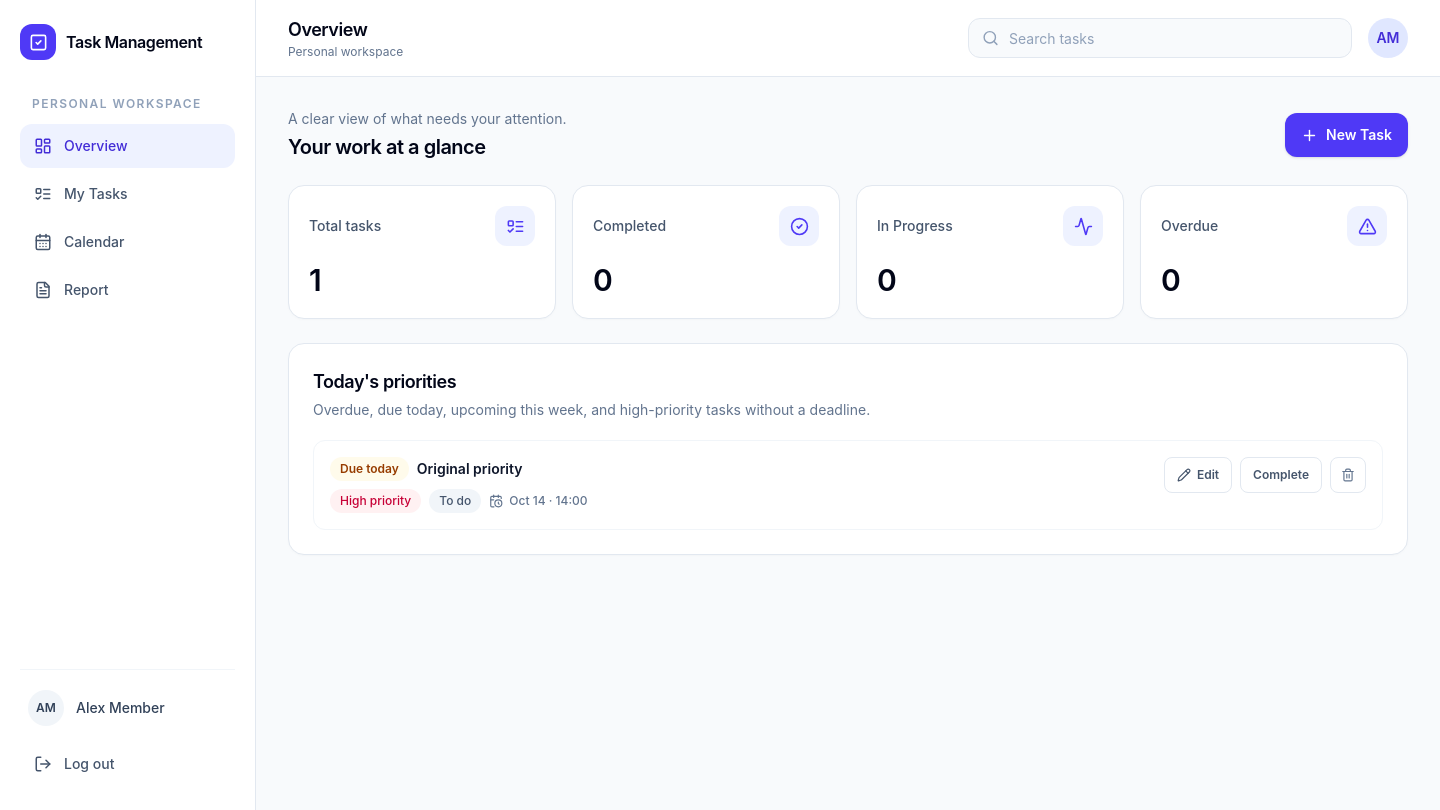
Scenario: dashboard overview › opens a selected priority in the existing edit dialog and reflects confirmed edits
Step 1. Click the button with aria-label "Edit Original priority" → (1198, 475), box [1164,457,1232,493]
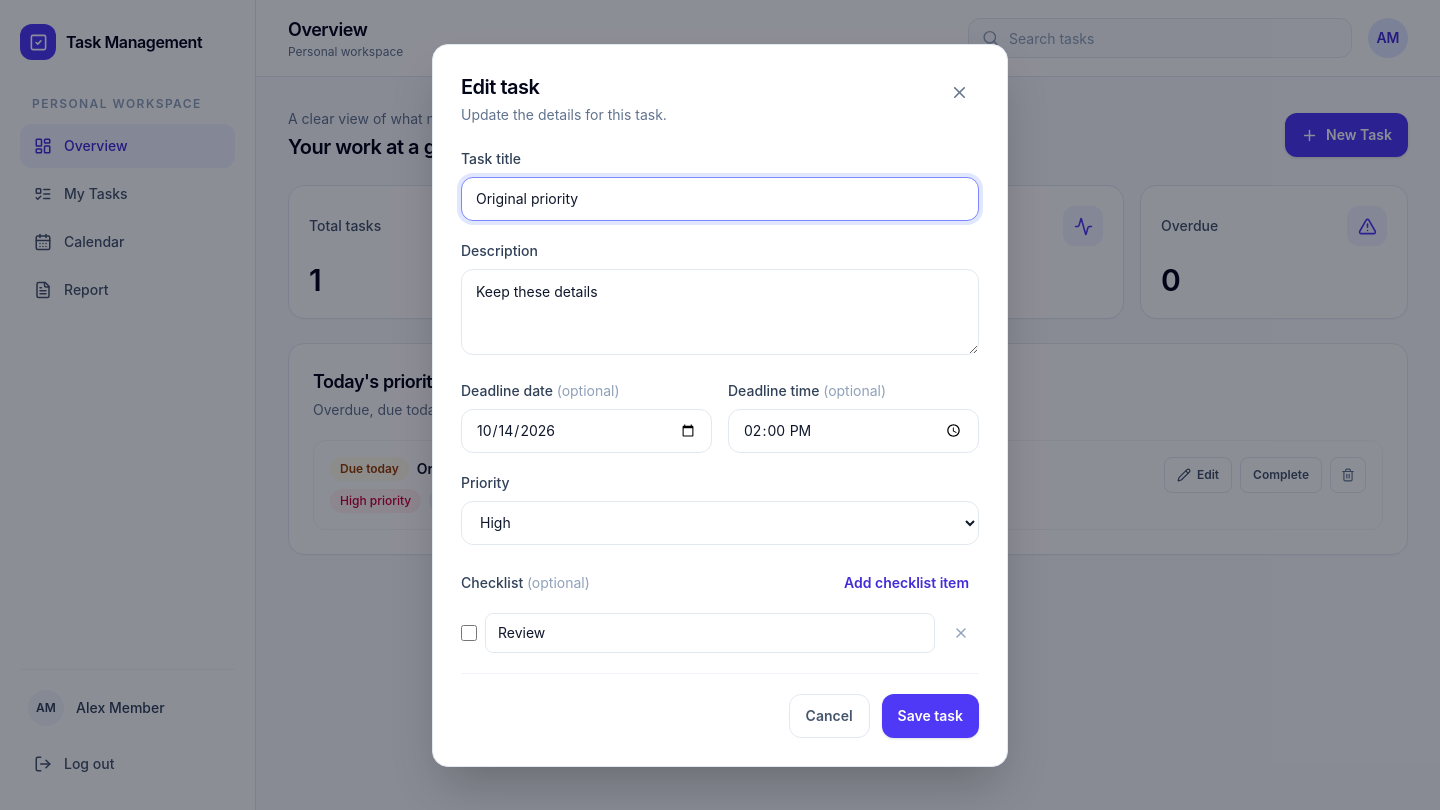
Expected: the text box labelled "Description" holds "Keep these details", [461,268,979,354]
Expected: the field named "Checklist item 1" holds "Review", [485,612,935,652]
Step 2. Replace the text in the field labelled "Task title" with "Updated priority" → (720, 198), box [461,176,979,220]
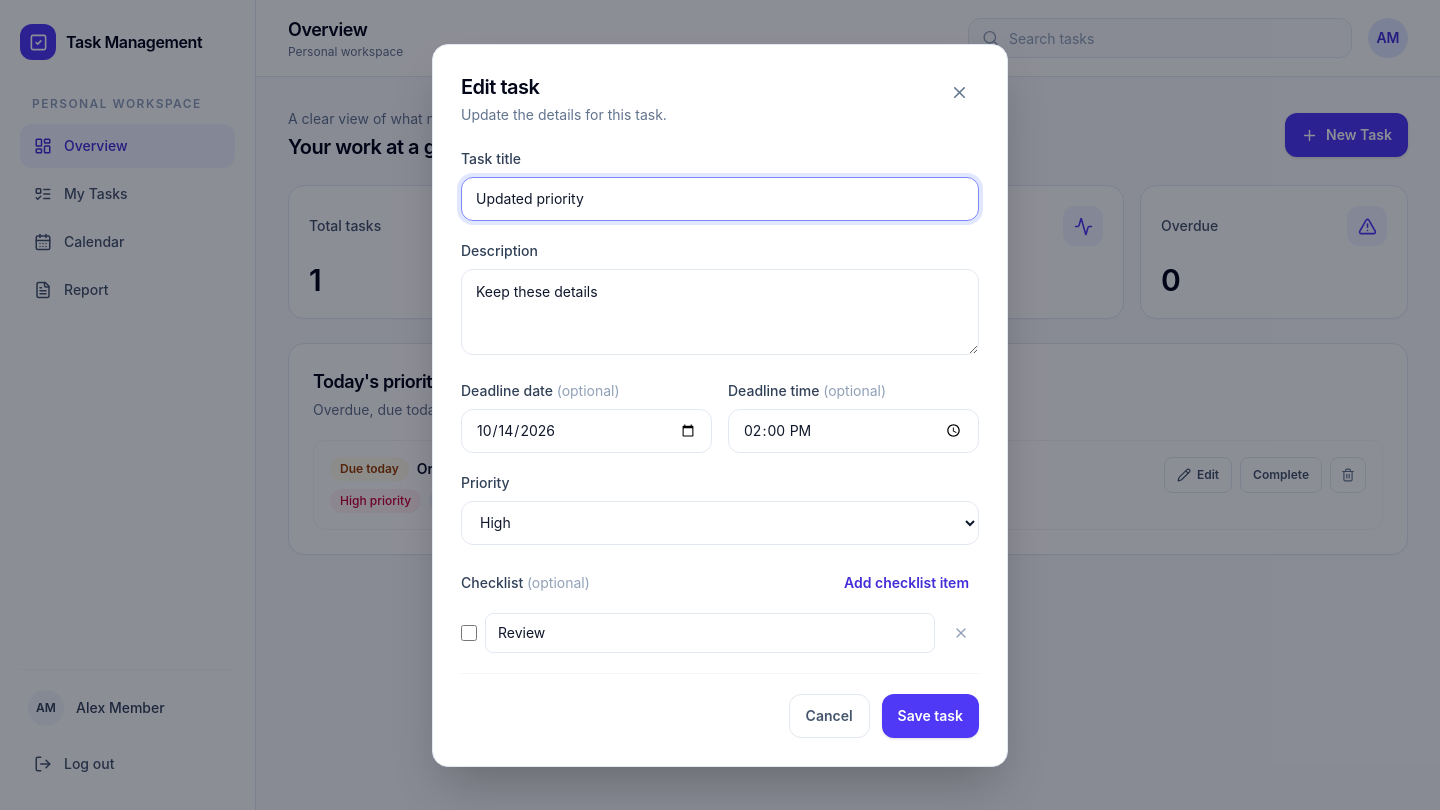
Step 3. Select "Low" in the dropdown labelled "Priority" → (720, 522), box [461,500,979,544]
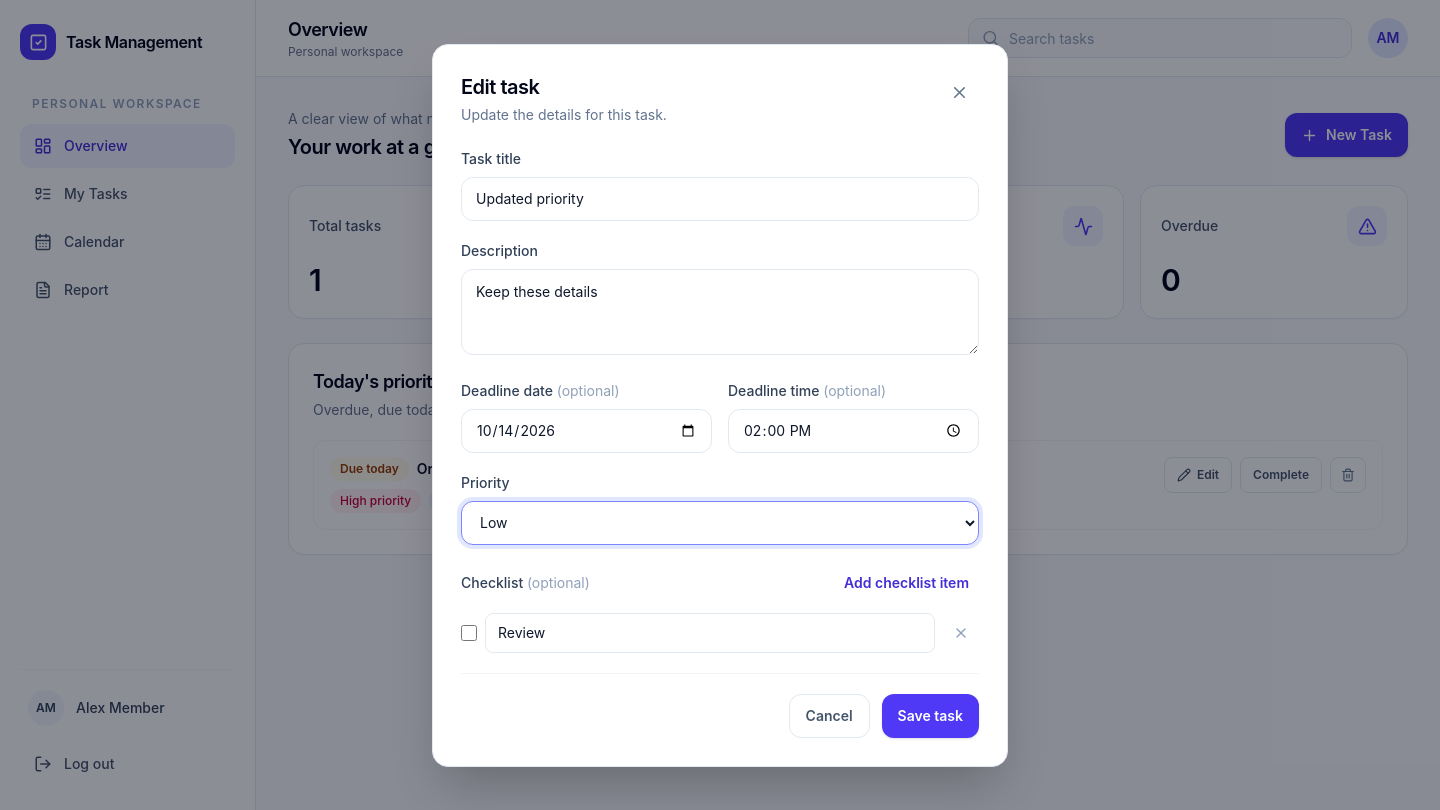
Step 4. Click the button "Save task" → (930, 716), box [882,694,979,738]
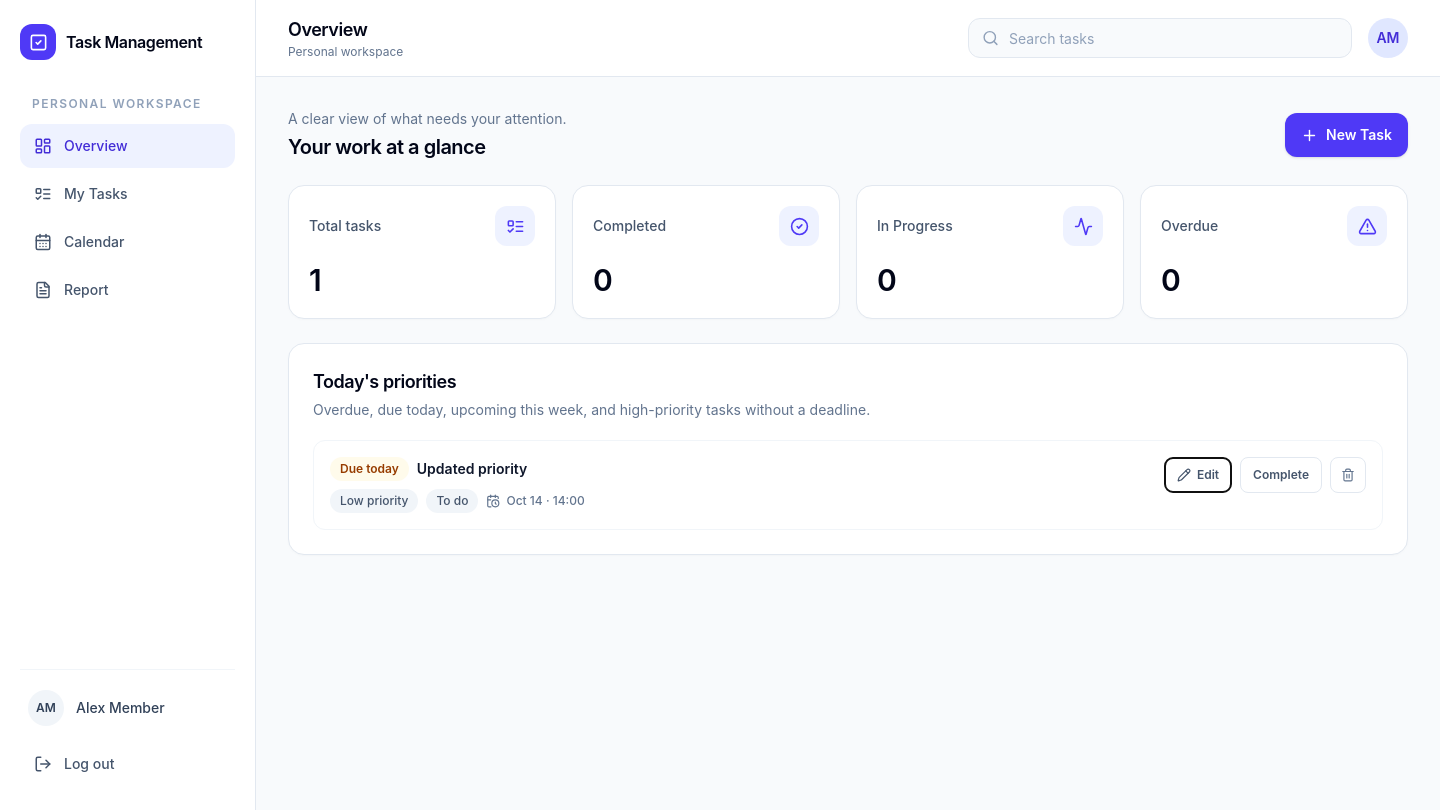
Expected: the dialog is gone
Expected: the heading "Updated priority" is shown, [417,459,527,479]
Expected: the heading "Original priority" is gone
